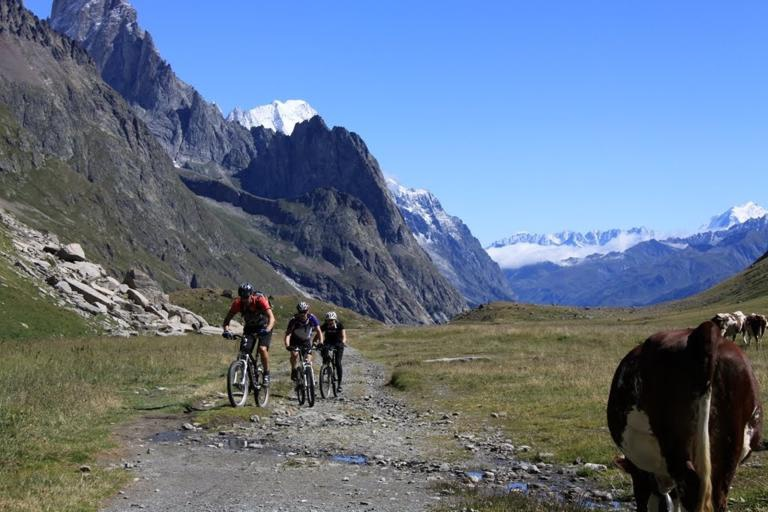non-vehicle: (219, 329, 274, 411), (284, 341, 324, 408), (310, 343, 343, 401)
